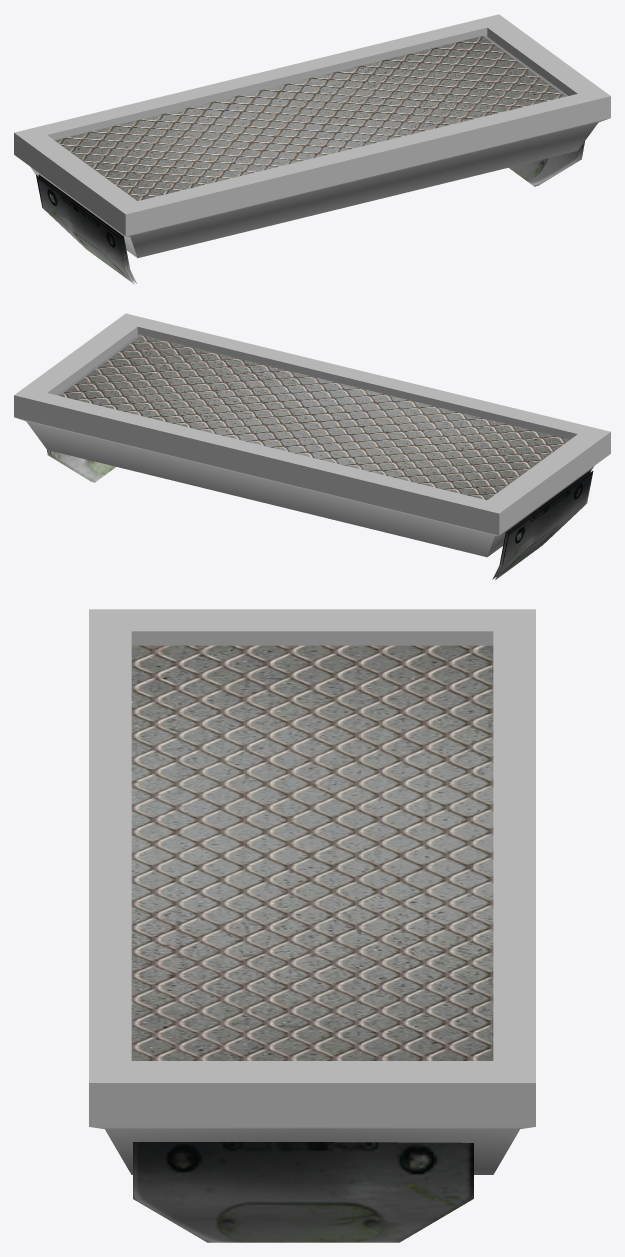
Rendered from Floor_F_2'5qmts_24.fbx.
The picture shows the model from 3 angles, top to bottom: view 1: azimuth 30°, elevation 25°; view 2: azimuth 150°, elevation 25°; view 3: azimuth 270°, elevation 25°; orthographic projection. The views are drawn at different scales.
Visible parts, largest first — view 1: frame_, grid_, details_; view 2: frame_, grid_, details_; view 3: grid_, frame_, details_.
Part boxes in pixels (<box>): frame_: <box>14,14,610,258</box>; grid_: <box>55,35,567,200</box>; details_: <box>36,141,584,284</box>; frame_: <box>14,313,610,557</box>; grid_: <box>57,334,569,500</box>; details_: <box>47,450,593,579</box>; grid_: <box>131,645,493,1060</box>; frame_: <box>89,609,535,1174</box>; details_: <box>133,1142,473,1242</box>.
Bounding box in the file's own units: 251 × 49.97 × 100.
